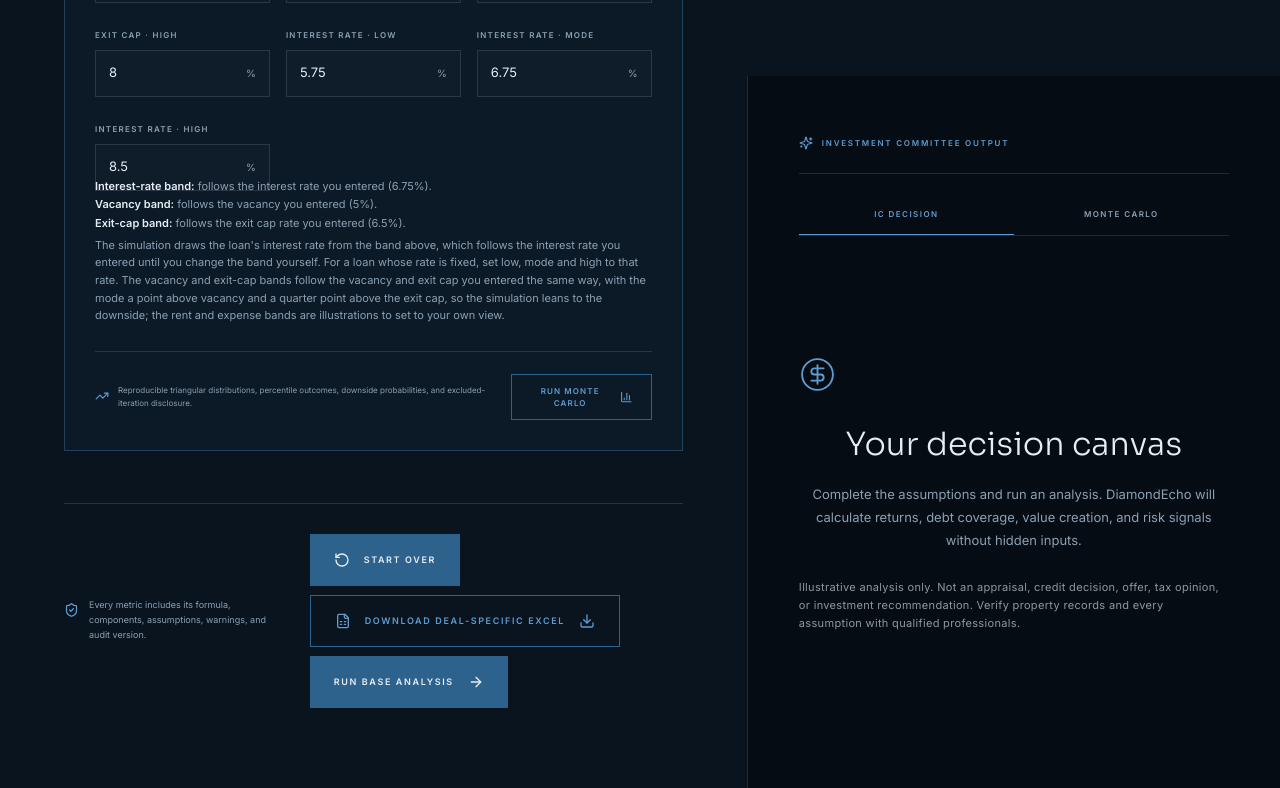
Test: an incomplete risk summary shows a recoverable error
(page scrolled)
Click the button "Run Monte Carlo" at (582, 397), box [511,374,652,420]
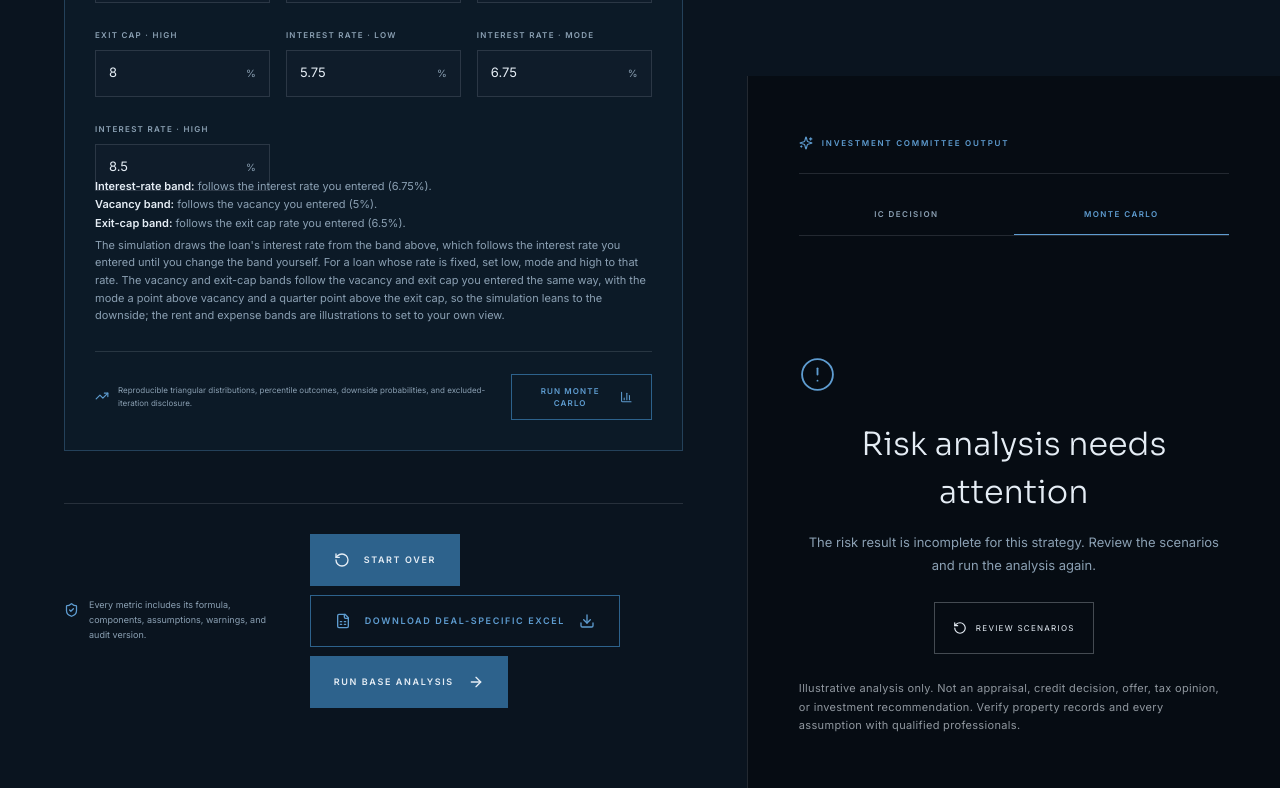
Expected: the text "The risk result is incomplete for this strategy" is shown, [809,534,1219,573]
Click the button "Review scenarios" at (1014, 628), box [934,602,1094,654]
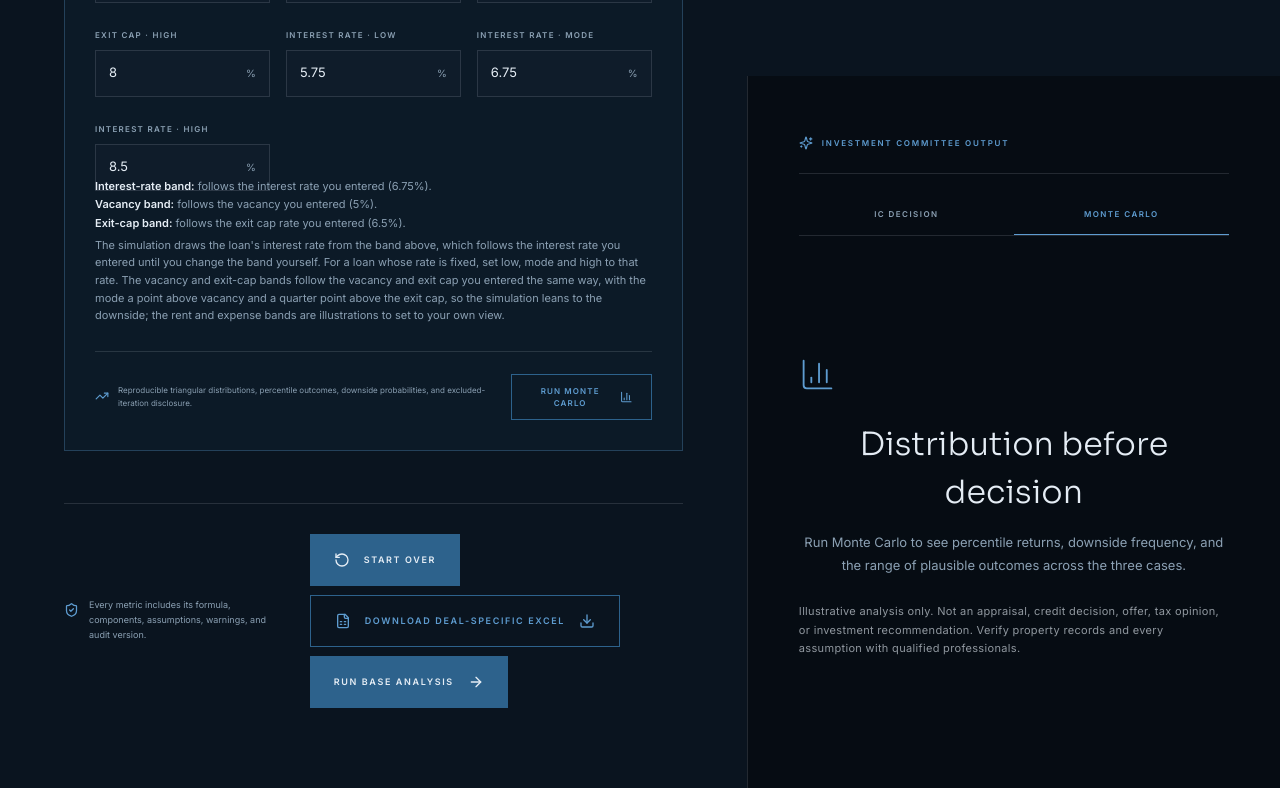
Expected: the text "Distribution before decision" is shown, [860,424,1168,512]
